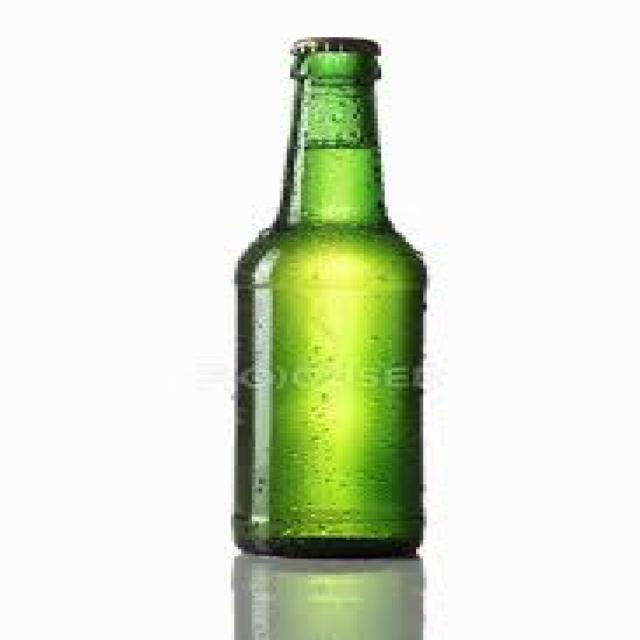glass: (234, 49, 420, 554)
metal: (283, 35, 374, 56)
